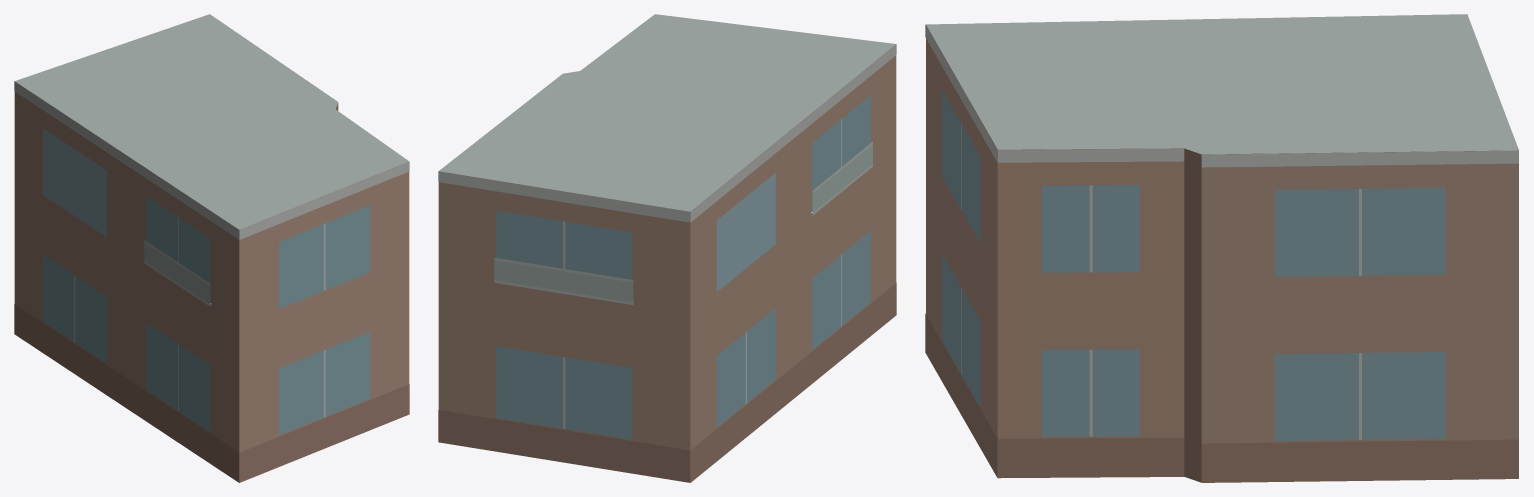
The model's file is survey-upis-32502685.glb.
The picture shows the model from 3 angles, left to right: view 1: azimuth 30°, elevation 25°; view 2: azimuth 150°, elevation 25°; view 3: azimuth 270°, elevation 25°; orthographic projection. The views are drawn at different scales.
Visible parts, largest first — view 1: survey-upis-32502685.tmp; view 2: survey-upis-32502685.tmp; view 3: survey-upis-32502685.tmp.
Part boxes in pixels (x1=…): survey-upis-32502685.tmp: x1=14, y1=14, x2=409, y2=482; survey-upis-32502685.tmp: x1=438, y1=14, x2=896, y2=482; survey-upis-32502685.tmp: x1=925, y1=14, x2=1518, y2=482.
Bounding box in the file's own units: 5.6 × 6.1 × 10.
